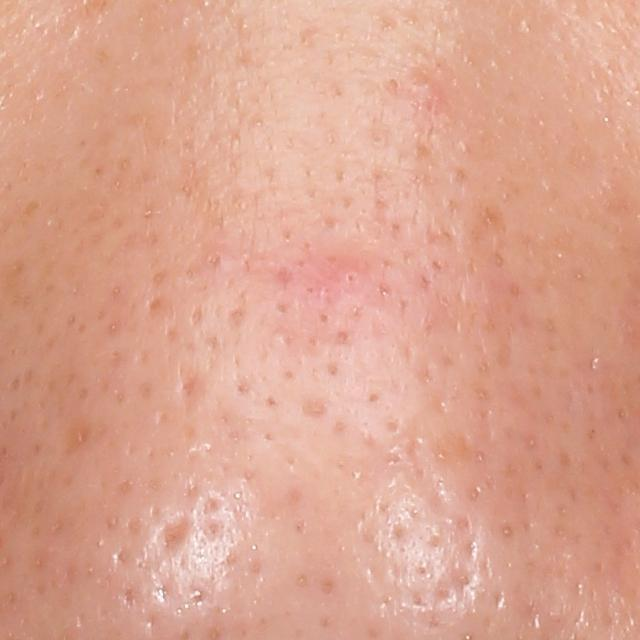atrophic_scar: (154, 512, 194, 557), (177, 372, 211, 409)
